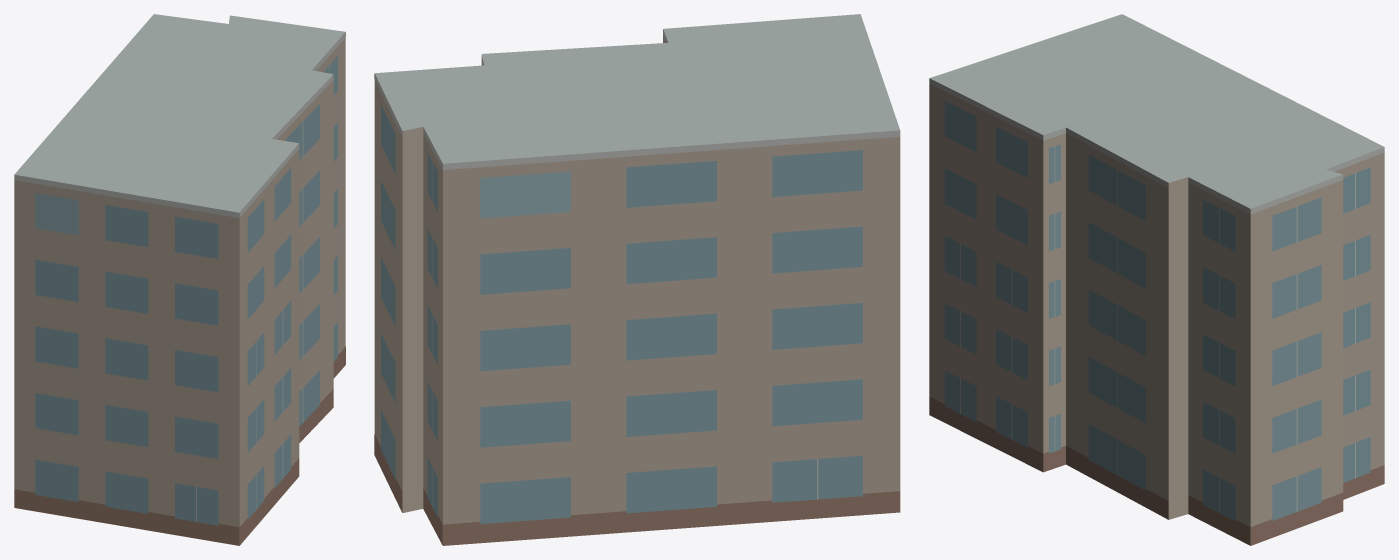
The model's file is survey-upis-32839550.glb.
The picture shows the model from 3 angles, left to right: view 1: azimuth 30°, elevation 25°; view 2: azimuth 150°, elevation 25°; view 3: azimuth 270°, elevation 25°; orthographic projection. The views are drawn at different scales.
Parts seen in each view (by area): view 1: survey-upis-32839550.tmp; view 2: survey-upis-32839550.tmp; view 3: survey-upis-32839550.tmp.
Part boxes in pixels (x1,y1,x2,y2): survey-upis-32839550.tmp: (14, 14, 345, 545); survey-upis-32839550.tmp: (374, 14, 900, 545); survey-upis-32839550.tmp: (929, 14, 1384, 545).
Size of the model in its own units: 18.52 by 14.92 by 18.27.
